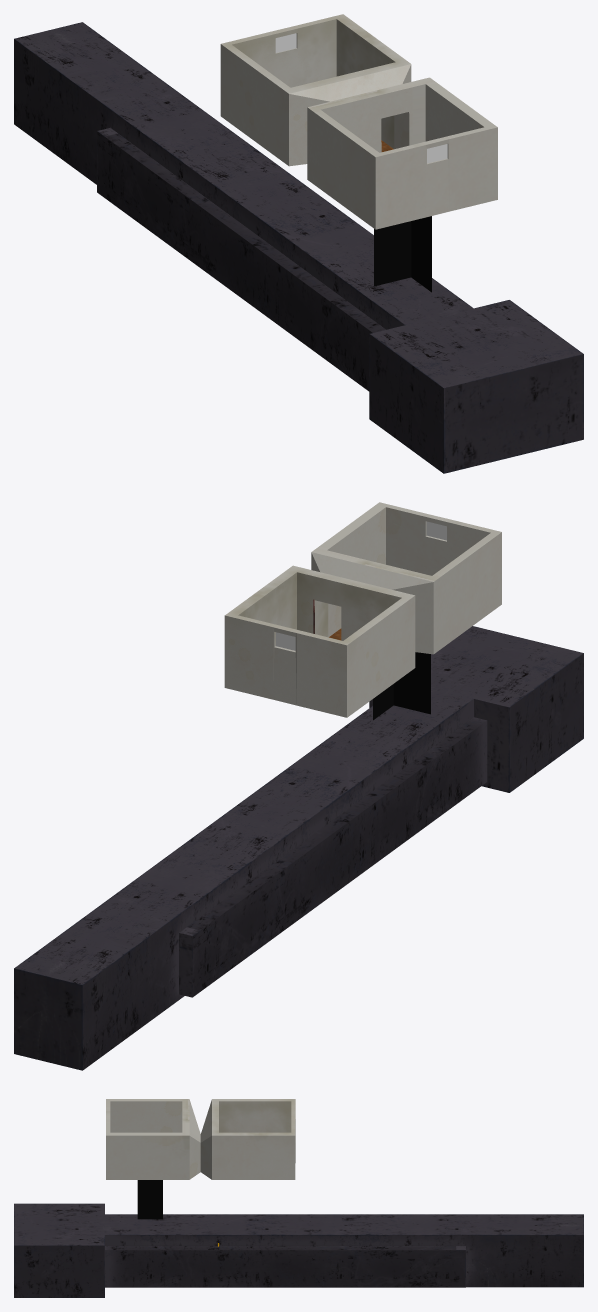
The model's file is Corridor_forEnding.fbx.
3 views of the same model, one above another, from view 1: azimuth 30°, elevation 25°; view 2: azimuth 150°, elevation 25°; view 3: azimuth 270°, elevation 25° (orthographic). The views are drawn at different scales.
Parts seen in each view (by area): view 1: corridor, house2, house; view 2: corridor, house, house2; view 3: corridor, house2, house.
Part boxes in pixels (x1,y1,x2,y2): corridor: (14,22,583,473); house2: (307,77,497,292); house: (220,14,411,166); corridor: (14,626,583,1070); house: (224,565,415,717); house2: (311,502,501,720); corridor: (14,1203,583,1297); house2: (106,1099,200,1219); house: (200,1099,295,1179).
Bounding box in the file's own units: 1011 × 1792 × 5818.
